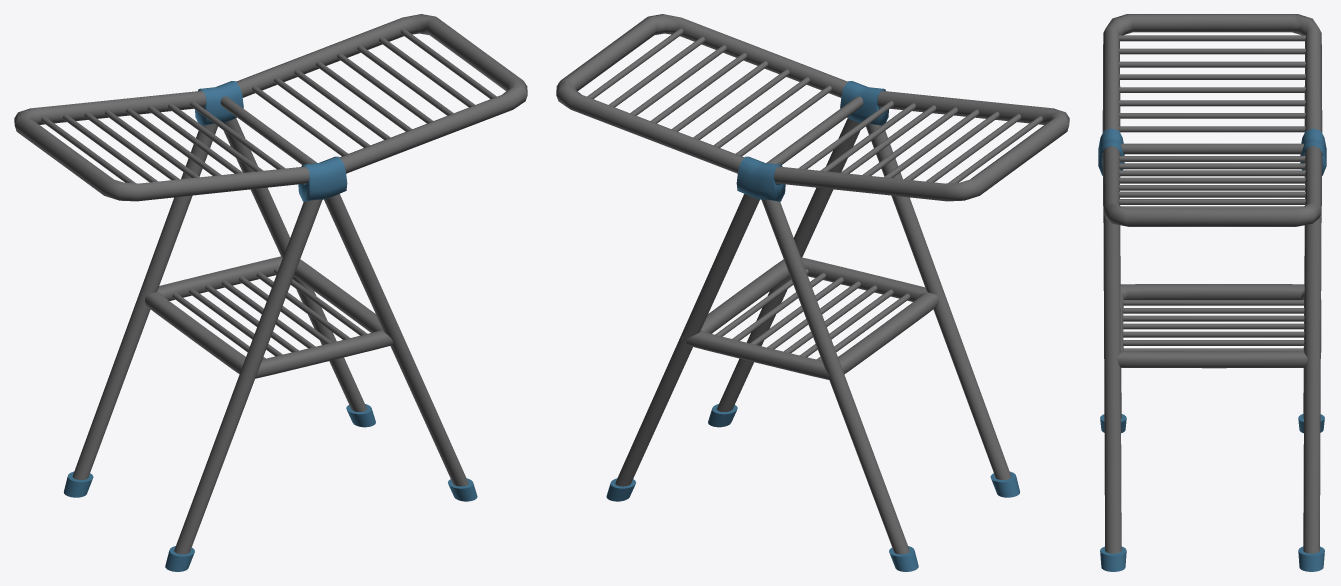
The model's file is Eden_clotheshorse_NEW.fbx.
3 views of the same model, side by side, from view 1: azimuth 30°, elevation 25°; view 2: azimuth 150°, elevation 25°; view 3: azimuth 270°, elevation 25° (orthographic). The views are drawn at different scales.
Parts seen in each view (by area): view 1: clotheshorse; view 2: clotheshorse; view 3: clotheshorse.
Boxes of the visible parts, left/top/right/bottom form: clotheshorse: left=14, top=14, right=527, bottom=571; clotheshorse: left=556, top=14, right=1069, bottom=571; clotheshorse: left=1098, top=14, right=1326, bottom=571.
Bounding box in the file's own units: 0.0388 × 0.0347 × 0.0186.
